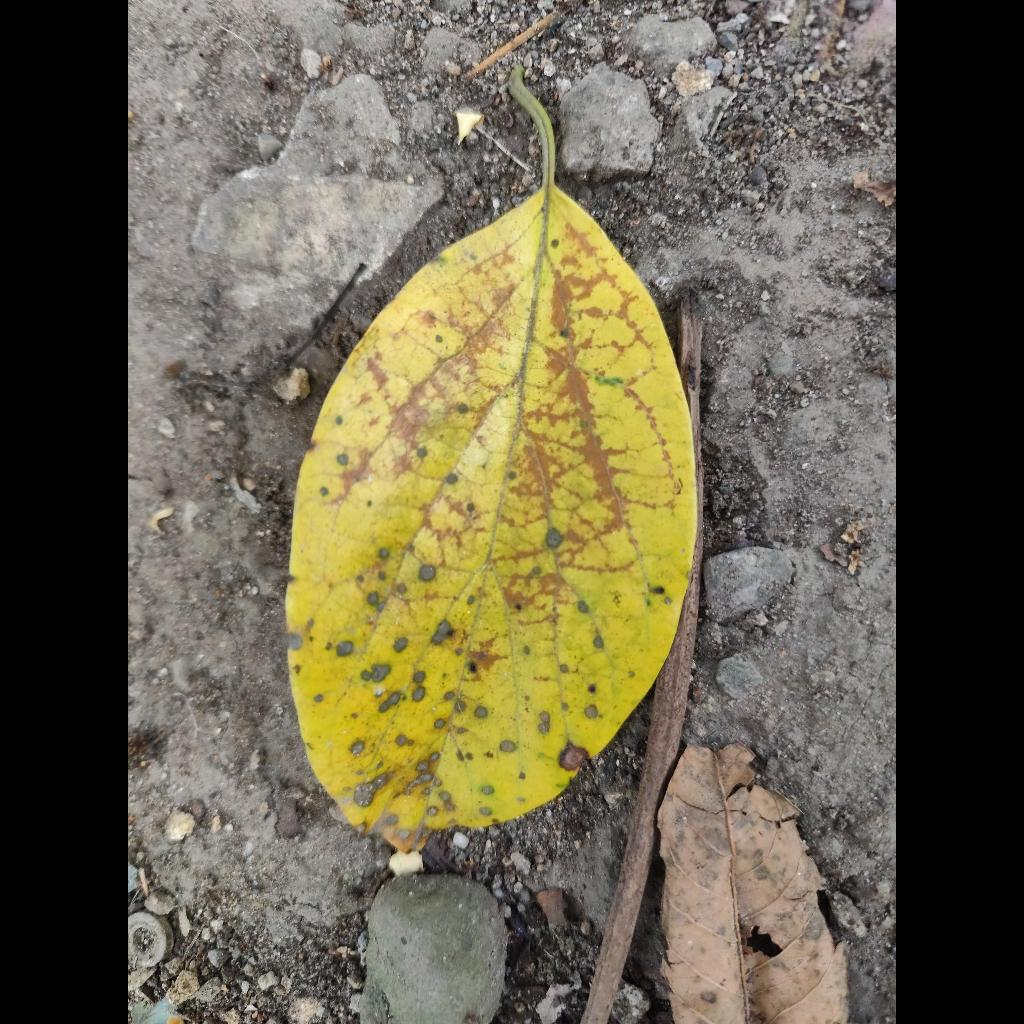deficiencia_nutricional: (286, 69, 697, 851)
